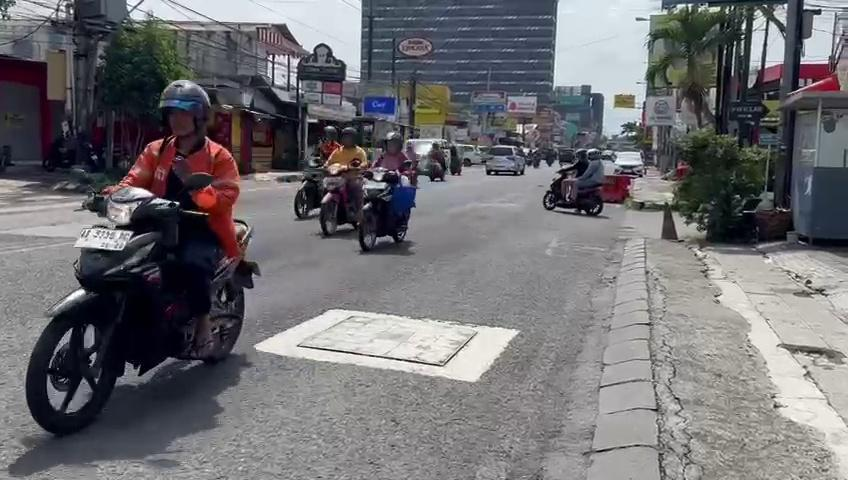helm: (157, 78, 213, 139)
riding: (23, 77, 263, 436)
